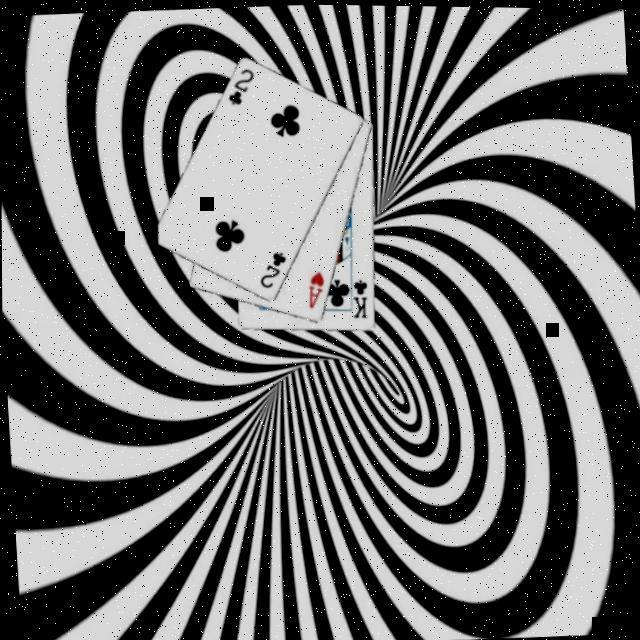2C: (253, 250, 288, 294), (222, 66, 256, 110)
AH: (302, 270, 326, 312)
KC: (342, 272, 369, 322)
